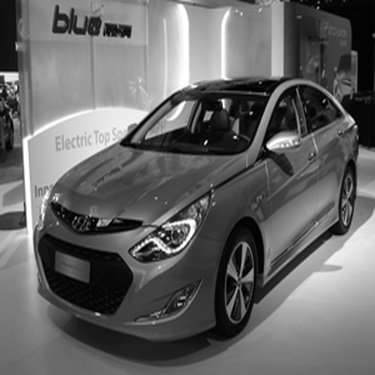car: (23, 65, 367, 350)
